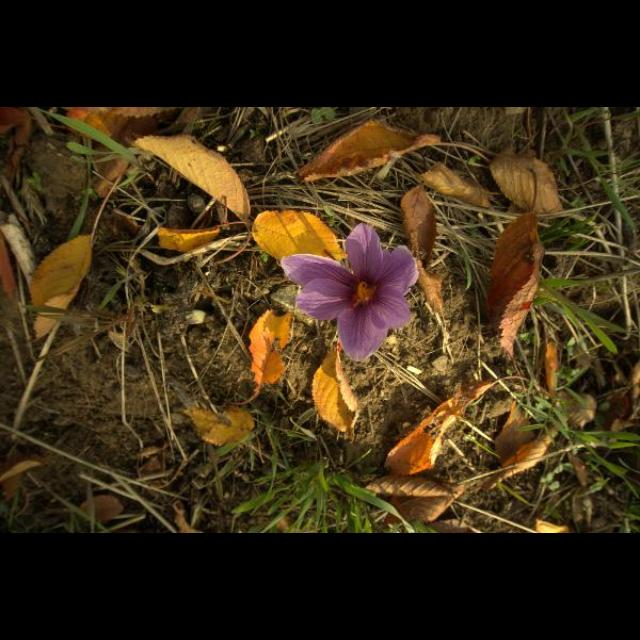flower: (280, 220, 420, 364)
